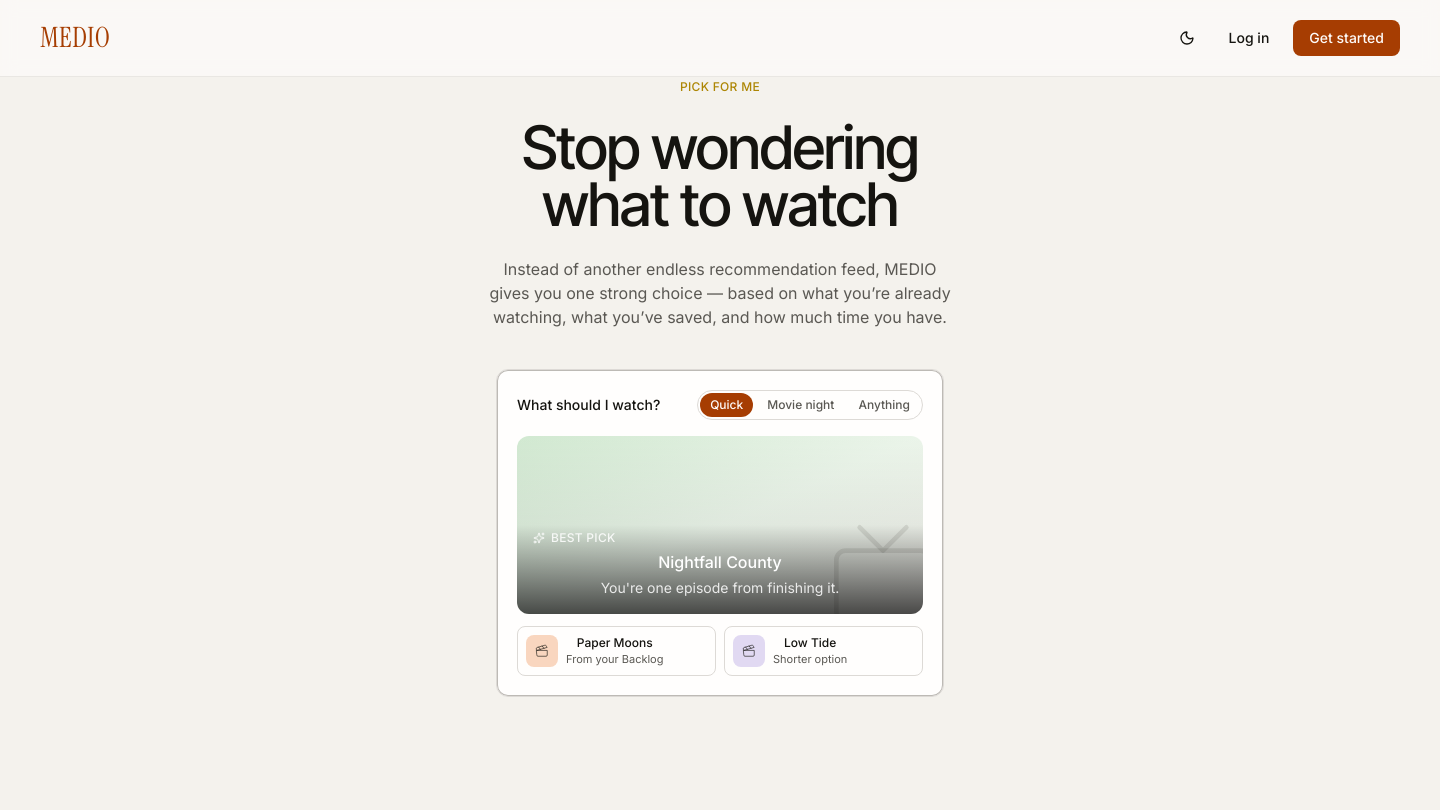
it: LandingPage › the Pick for Me demo genuinely swaps the Best Pick by time context
(page scrolled)
Expected: the text "You're one episode from finishing it." is shown, [601,579,839,596]
Click the button "Movie night": (801, 405) [757,393,844,417]
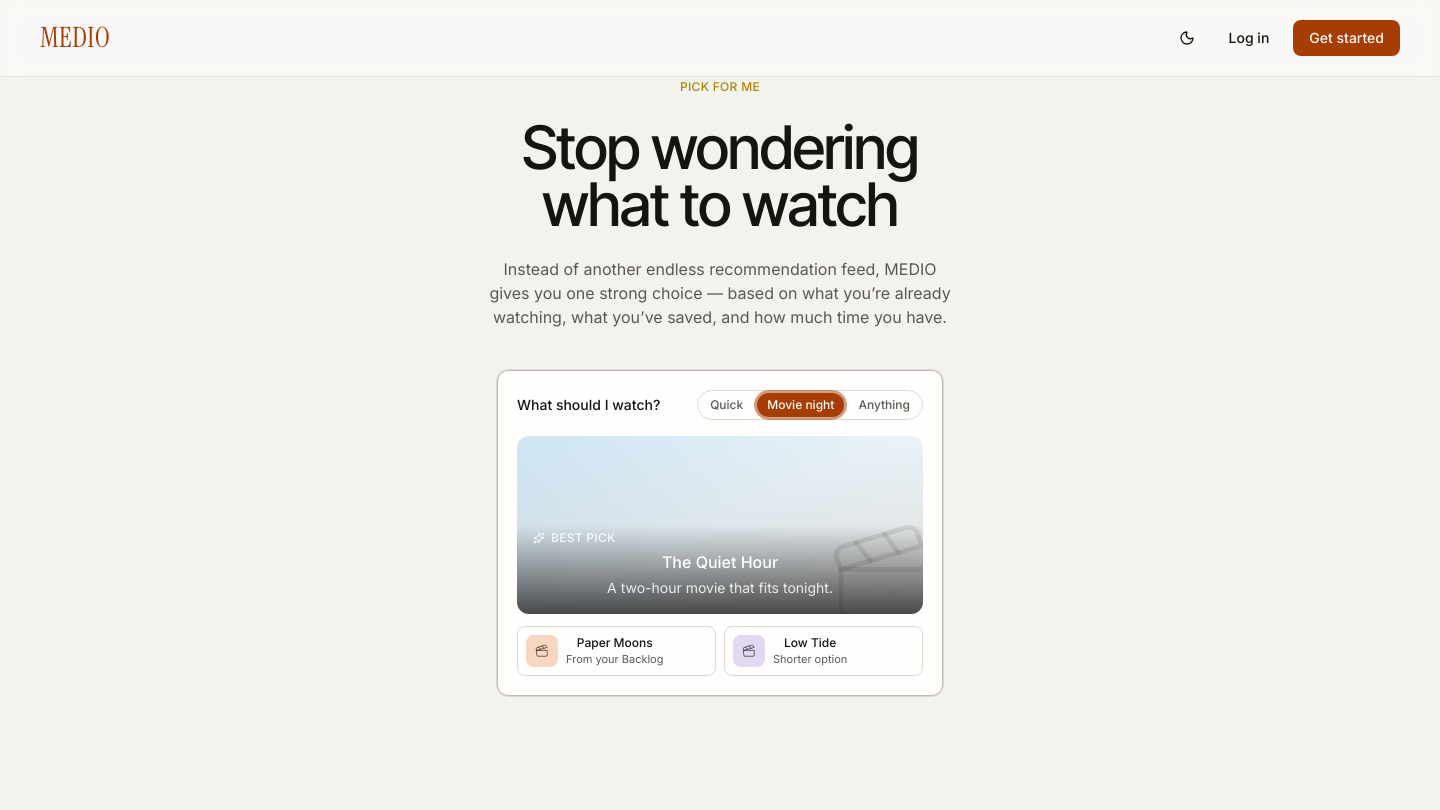
Result: the text "A two-hour movie that fits tonight." is shown at [607,579,833,596]
